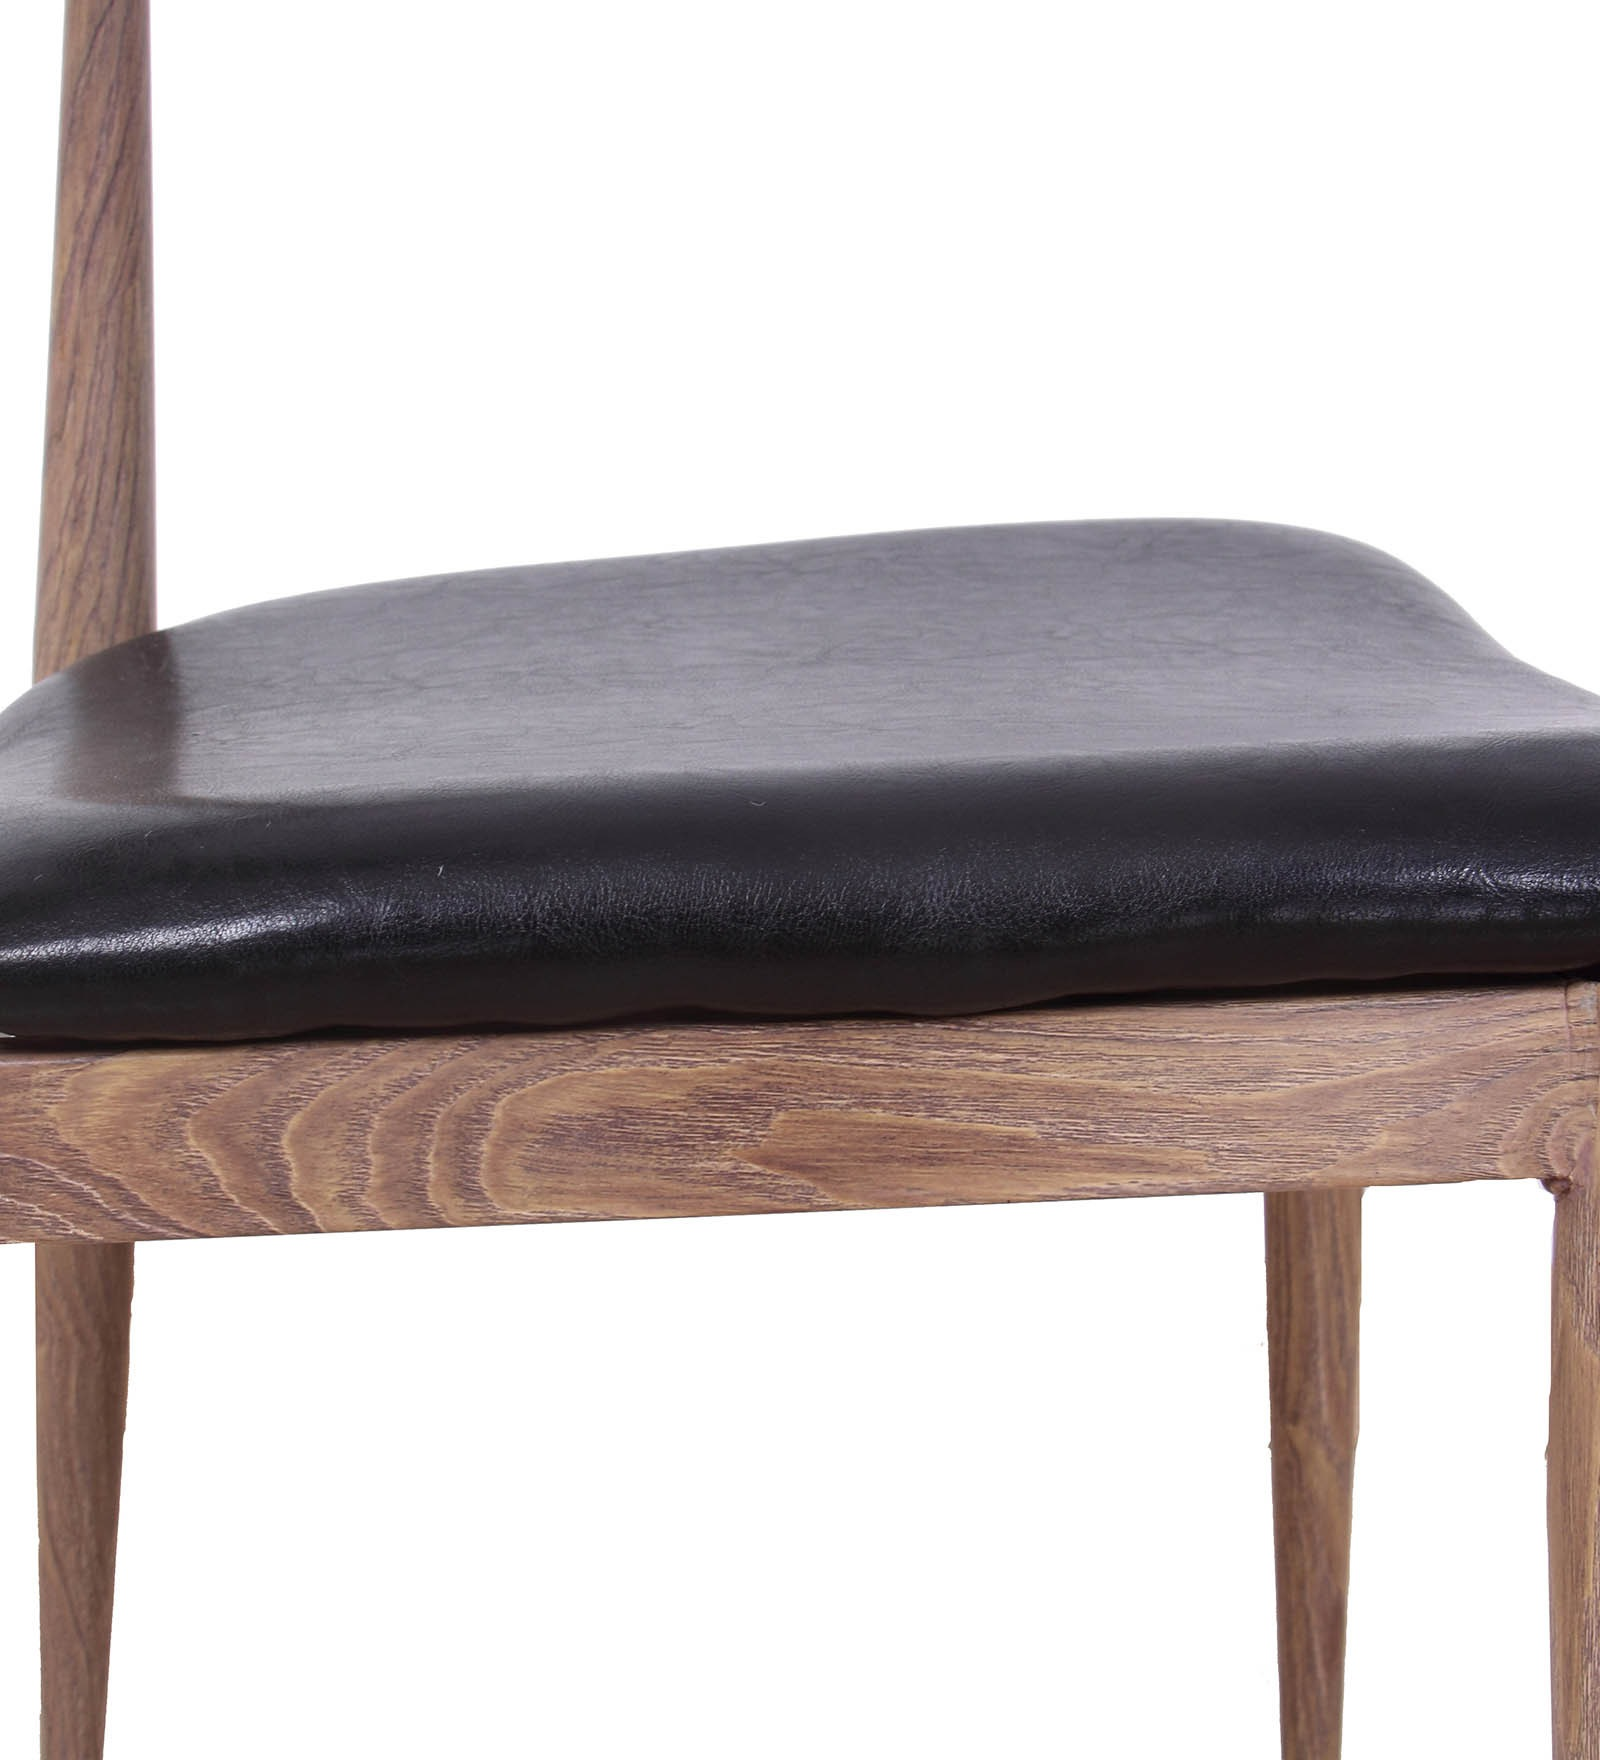Sherman Metal Chair (Set of 2) in Wooden Finish by Bohemiana: (55, 31, 1600, 1760)
